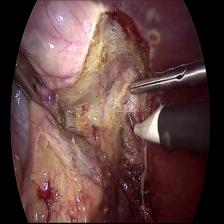Grasper: (15, 44, 72, 140), (125, 49, 205, 109)
Hook: (123, 100, 165, 159)
